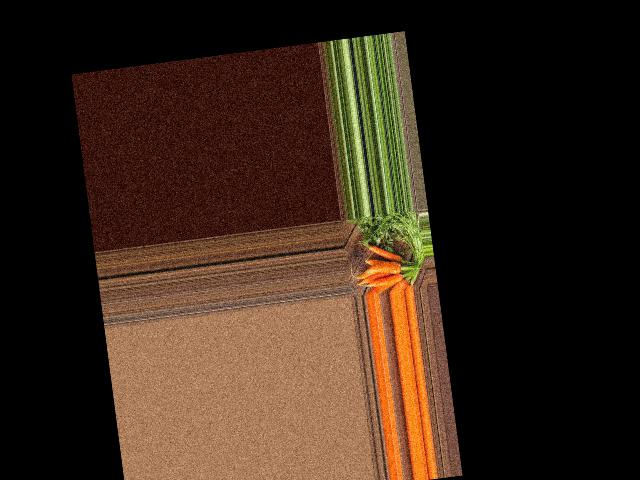carrot: (389, 274, 412, 292)
